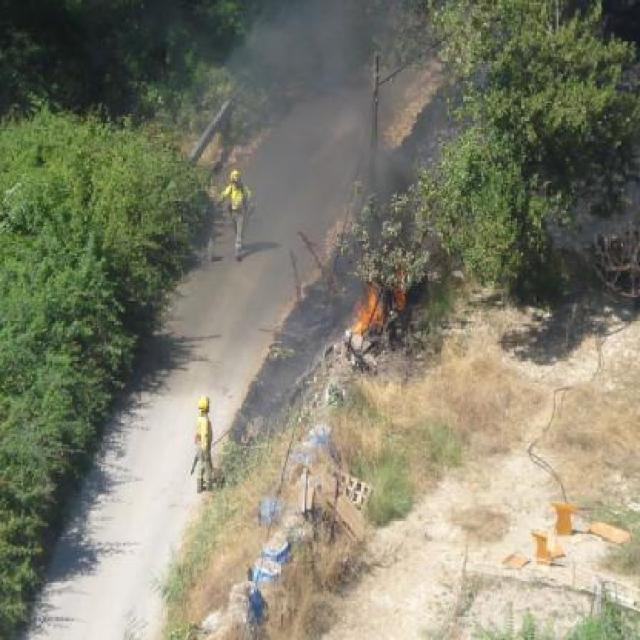Fire: (352, 266, 412, 332)
